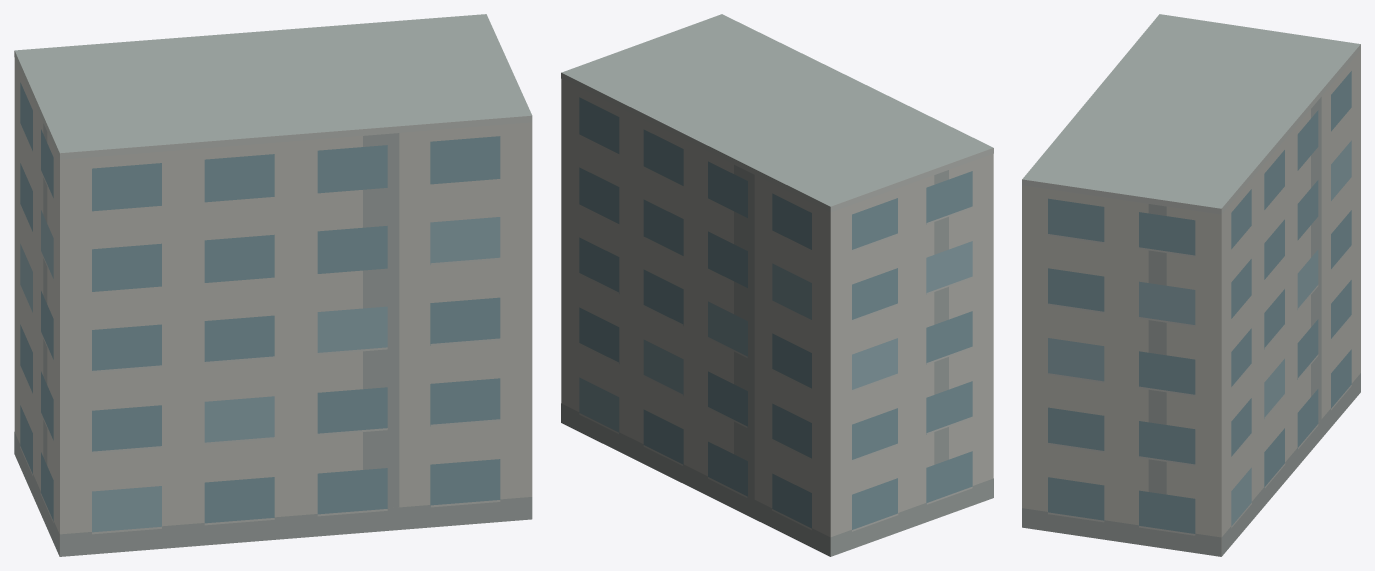
File: survey-upis-32987498.glb
The picture shows the model from 3 angles, left to right: view 1: azimuth 30°, elevation 25°; view 2: azimuth 150°, elevation 25°; view 3: azimuth 270°, elevation 25°; orthographic projection. The views are drawn at different scales.
Parts seen in each view (by area): view 1: survey-upis-32987498.tmp; view 2: survey-upis-32987498.tmp; view 3: survey-upis-32987498.tmp.
Boxes of the visible parts, x1=… form: survey-upis-32987498.tmp: x1=14, y1=14, x2=532, y2=556; survey-upis-32987498.tmp: x1=561, y1=14, x2=993, y2=556; survey-upis-32987498.tmp: x1=1022, y1=14, x2=1360, y2=556.
Size of the model in its own units: 17.4 by 14.5 by 12.8.
